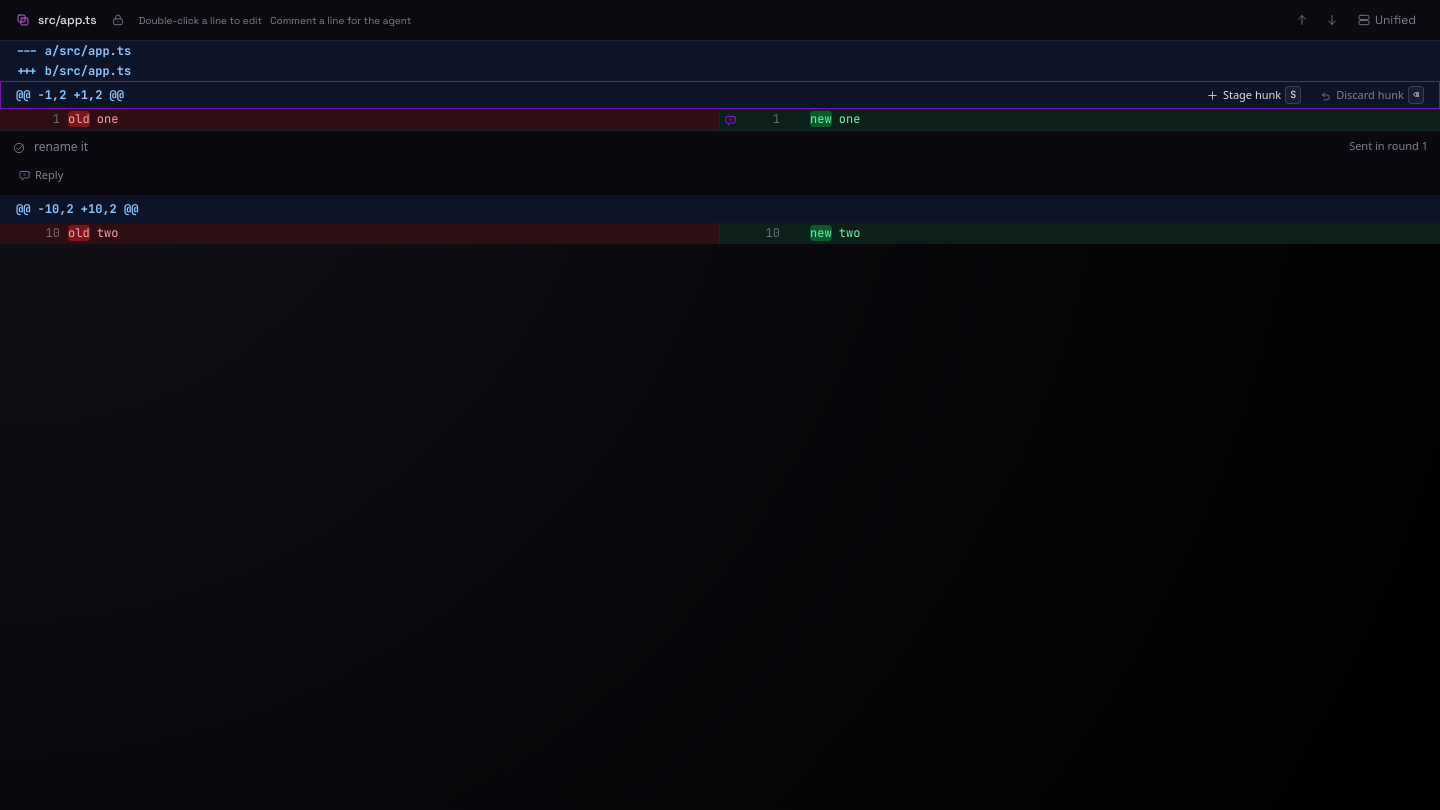
Scenario: DiffViewer comment threads › Reply adds a new comment to the thread and leaves the sent one as it was
Click the button with aria-label "Reply on line 1": (41,175) [12,163,69,187]
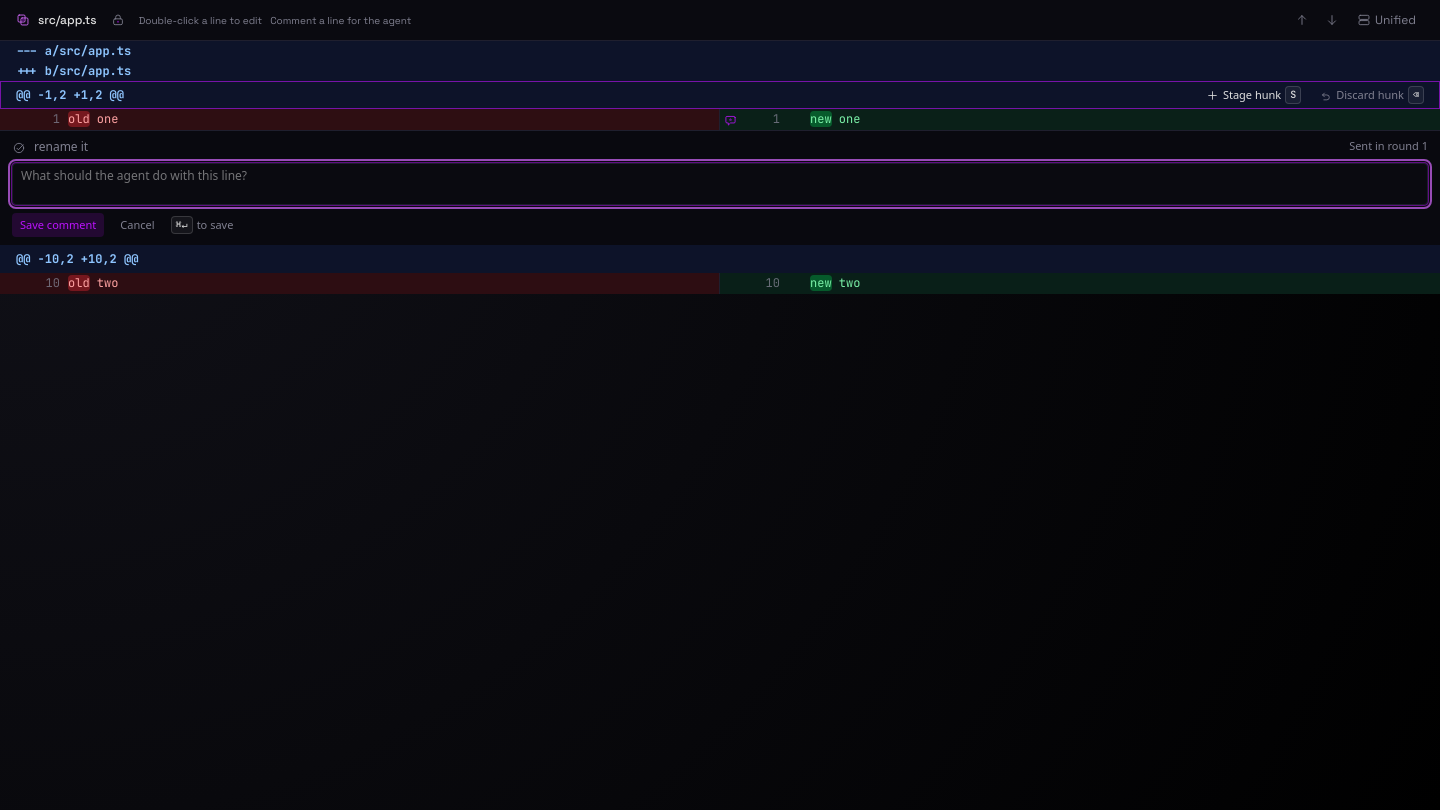
Result: the text box named "Review comment" is empty
In the text box named "Review comment": (720,184) [12,163,1428,205], type "still wrong"
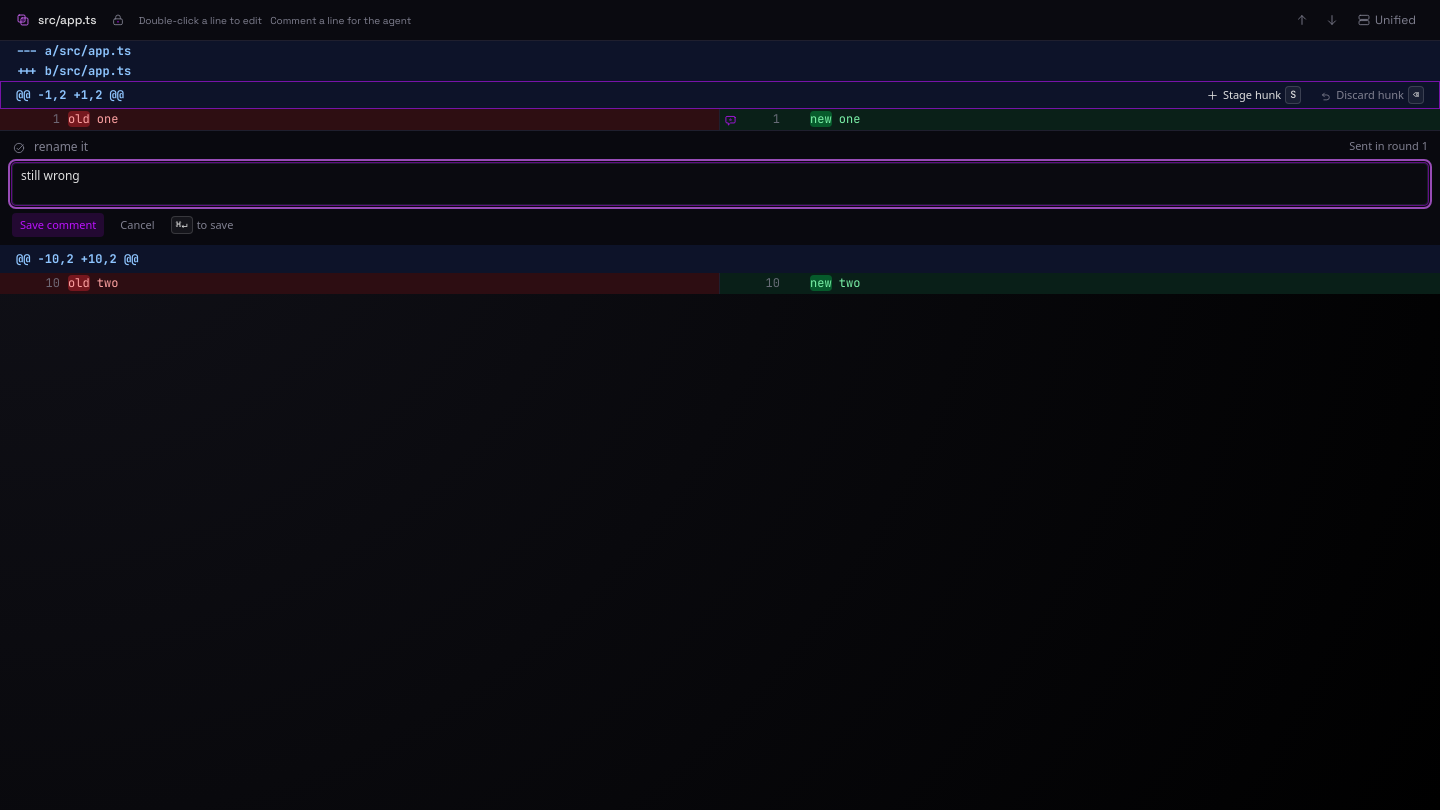
Click the button "Save comment": (58,225) [12,213,104,237]
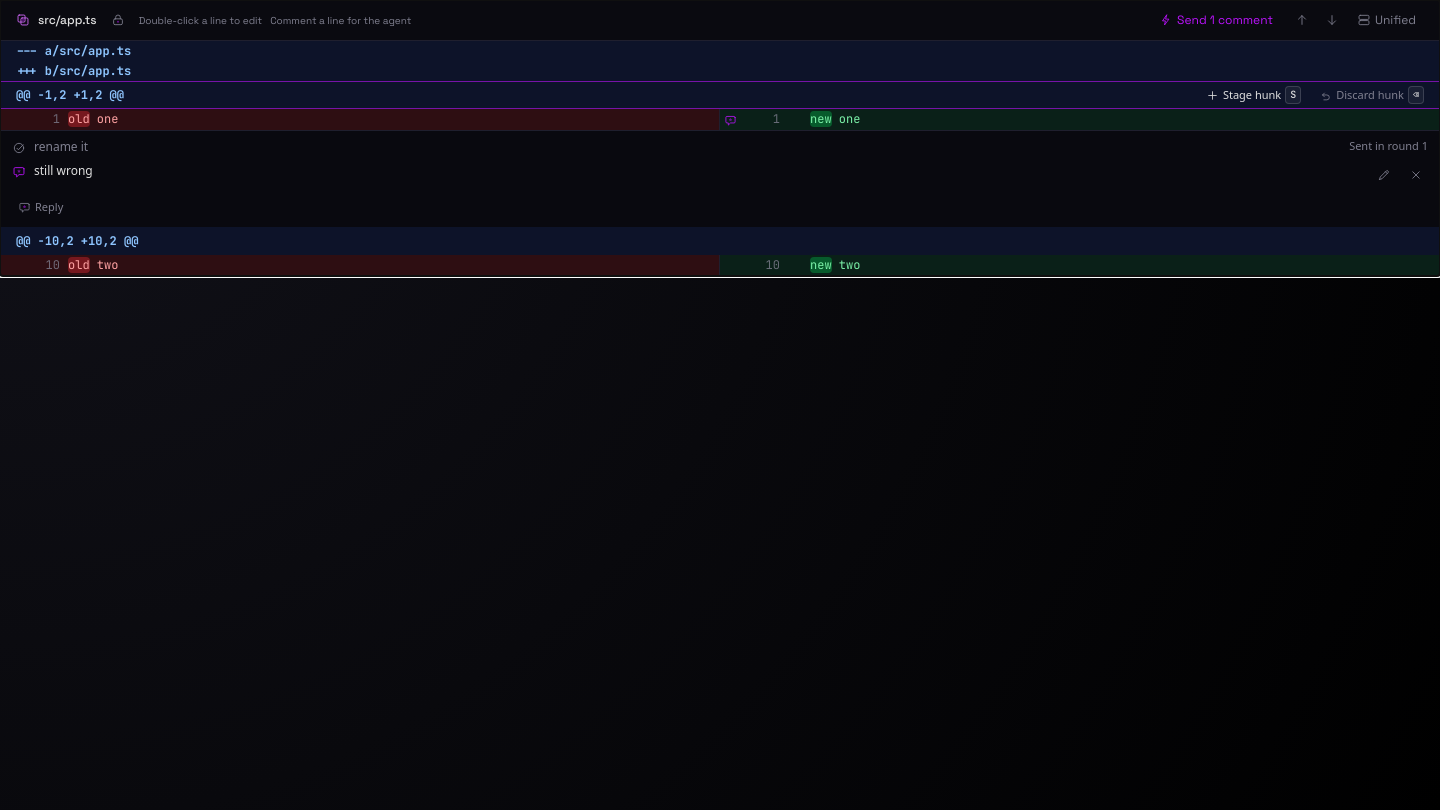
Result: the number of elements with test id "diff-line-comment" is 2 at [12,139,1428,155]; [12,163,1428,187]
